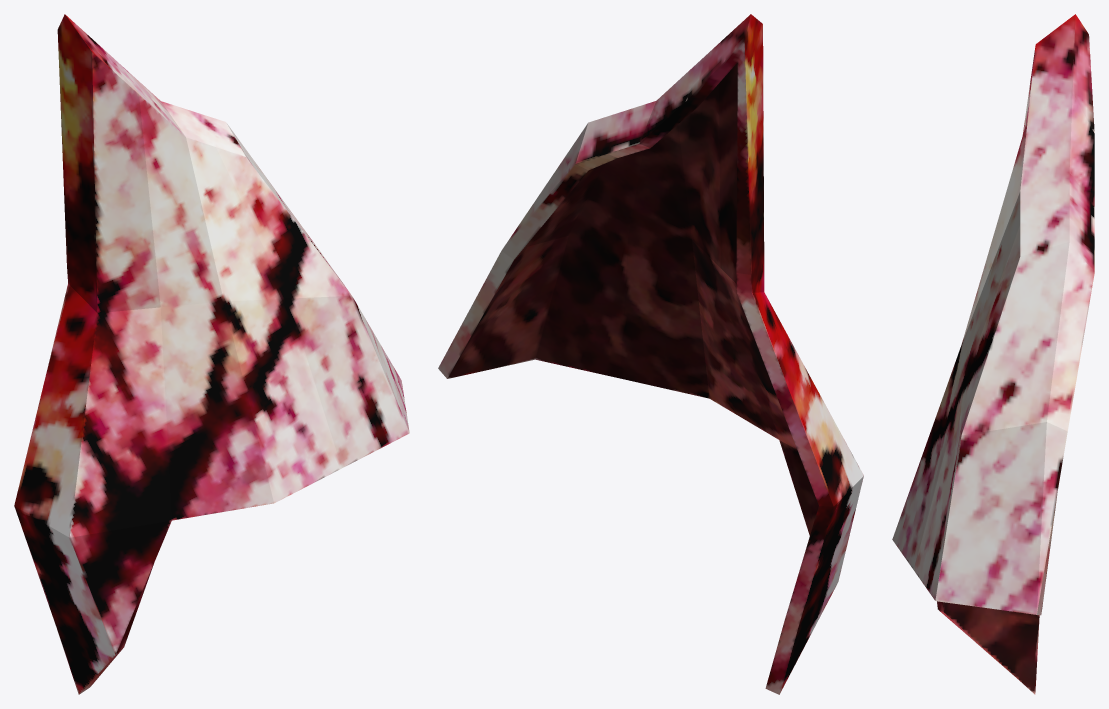
File: TornSkull2.fbx
The picture shows the model from 3 angles, left to right: view 1: azimuth 30°, elevation 25°; view 2: azimuth 150°, elevation 25°; view 3: azimuth 270°, elevation 25°; orthographic projection. The views are drawn at different scales.
Visible parts, largest first — view 1: TornSkull2; view 2: TornSkull2; view 3: TornSkull2.
Part boxes in pixels (x1,y1,x2,y2): TornSkull2: [14, 14, 409, 694]; TornSkull2: [438, 14, 863, 694]; TornSkull2: [892, 14, 1094, 694].
Size of the model in its own units: 356 by 590 by 159.
